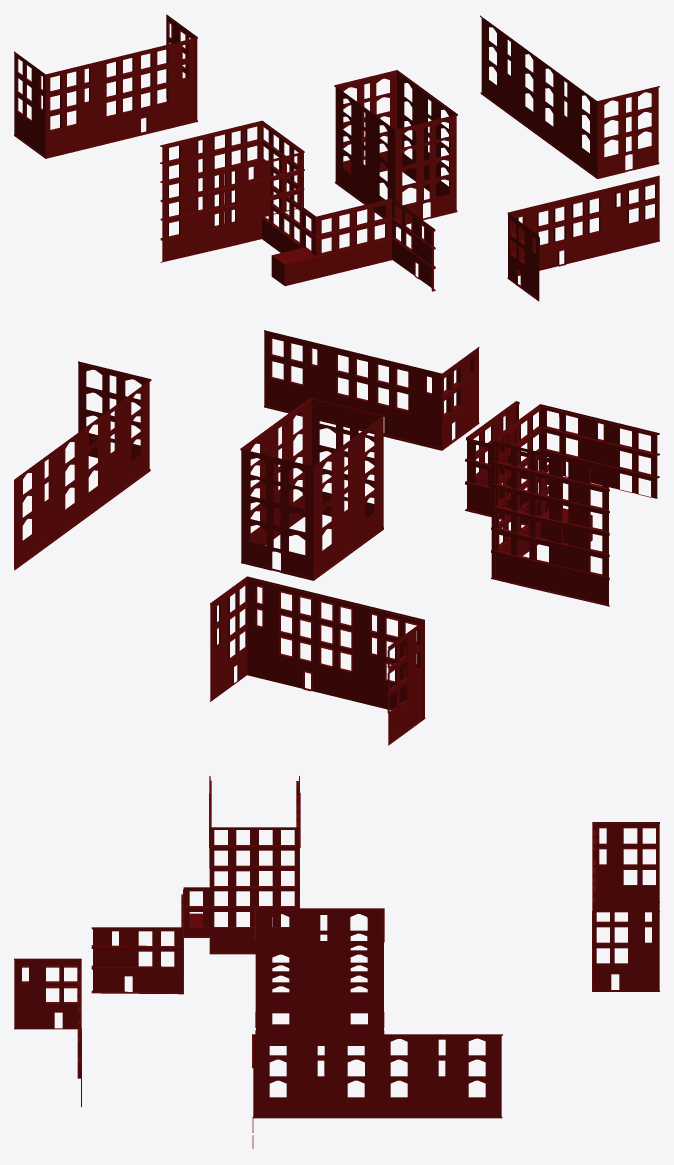
File: BrownBuildings.fbx
3 renders of one model, top to bottom at view 1: azimuth 30°, elevation 25°; view 2: azimuth 150°, elevation 25°; view 3: azimuth 270°, elevation 25°, orthographic. The views are drawn at different scales.
Visible parts, largest first — view 1: ApartmentBuilding_10_Base_low, Apartment_Buidling_04_Base_low, ApartmentBuilding_05_Base_low, ApartmentBuilding_08_Base_low, Apartment_Buidling_09_Base_low; view 2: ApartmentBuilding_10_Base_low, Apartment_Buidling_04_Base_low, ApartmentBuilding_05_Base_low, Apartment_Buidling_09_Base_low, ApartmentBuilding_08_Base_low; view 3: ApartmentBuilding_08_Base_low, ApartmentBuilding_05_Base_low, ApartmentBuilding_10_Base_low, Apartment_Buidling_04_Base_low, Apartment_Buidling_09_Base_low.
Part boxes in pixels (box(x1,y1,x2,y2)): ApartmentBuilding_10_Base_low: box(160, 120, 435, 291); Apartment_Buidling_04_Base_low: box(14, 14, 197, 158); ApartmentBuilding_05_Base_low: box(334, 70, 457, 226); ApartmentBuilding_08_Base_low: box(480, 15, 659, 178); Apartment_Buidling_09_Base_low: box(507, 175, 659, 301); ApartmentBuilding_10_Base_low: box(465, 401, 659, 606); Apartment_Buidling_04_Base_low: box(210, 576, 425, 745); ApartmentBuilding_05_Base_low: box(240, 397, 384, 580); Apartment_Buidling_09_Base_low: box(264, 330, 479, 450); ApartmentBuilding_08_Base_low: box(14, 361, 151, 570); ApartmentBuilding_08_Base_low: box(252, 1034, 502, 1148); ApartmentBuilding_05_Base_low: box(254, 908, 384, 1045); ApartmentBuilding_10_Base_low: box(91, 776, 300, 994); Apartment_Buidling_04_Base_low: box(592, 822, 659, 991); Apartment_Buidling_09_Base_low: box(14, 958, 81, 1107).
Size of the model in its own units: 77.05 by 18.33 by 84.28.
